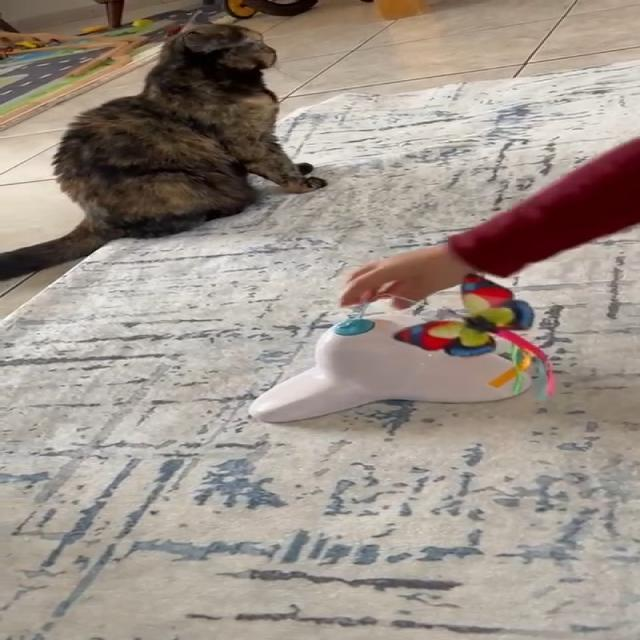authorized: (0, 22, 327, 281)
